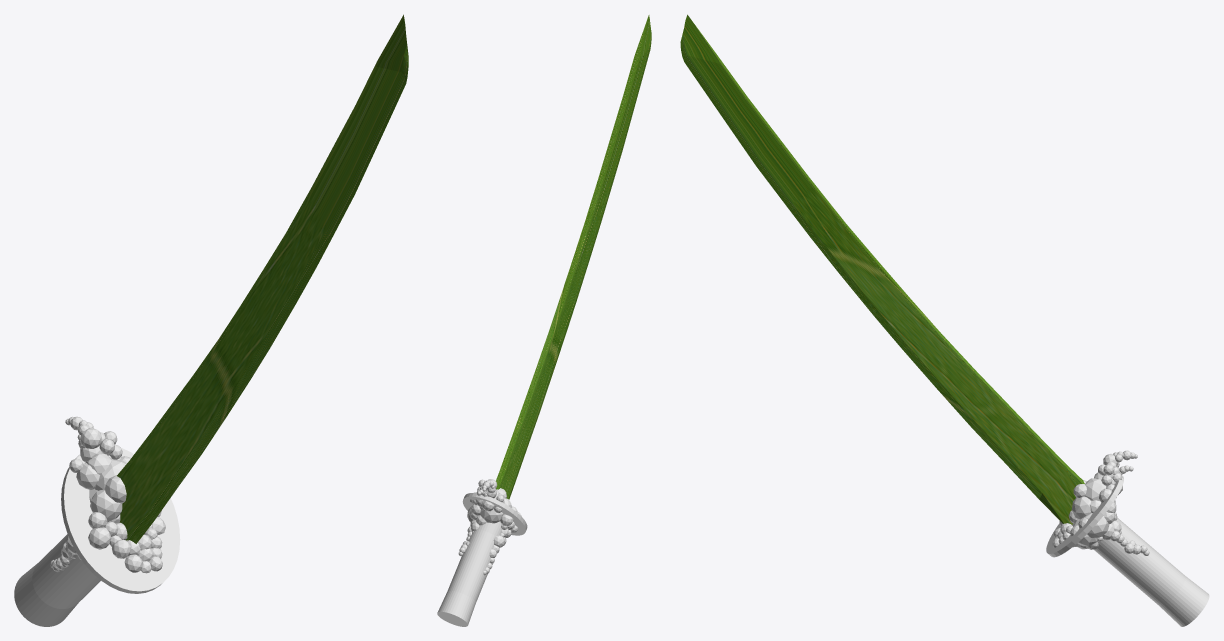
File: Katana.fbx
The picture shows the model from 3 angles, left to right: view 1: azimuth 30°, elevation 25°; view 2: azimuth 150°, elevation 25°; view 3: azimuth 270°, elevation 25°; orthographic projection. The views are drawn at different scales.
Visible parts, largest first — view 1: Te ofrezco la hoja; view 2: Te ofrezco la hoja; view 3: Te ofrezco la hoja.
Part boxes in pixels (bbox=[...]): Te ofrezco la hoja: bbox=[14, 14, 408, 626]; Te ofrezco la hoja: bbox=[437, 15, 651, 626]; Te ofrezco la hoja: bbox=[680, 14, 1209, 626].
Size of the model in its own units: 5.14 by 41.19 by 32.36.
5 materials, 1 textured.
